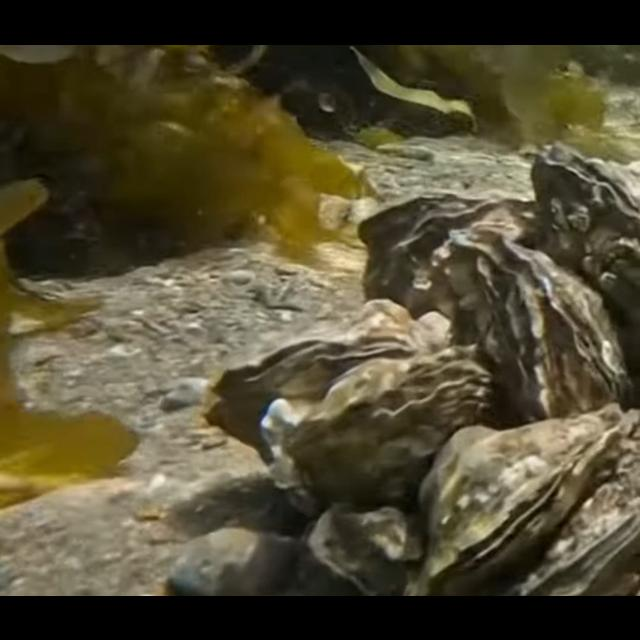Oyster-Closed: (260, 342, 490, 504), (476, 232, 634, 422)
Oyster-Open: (405, 403, 631, 595), (206, 329, 416, 458), (356, 190, 538, 320), (520, 140, 640, 322), (505, 472, 640, 596)
